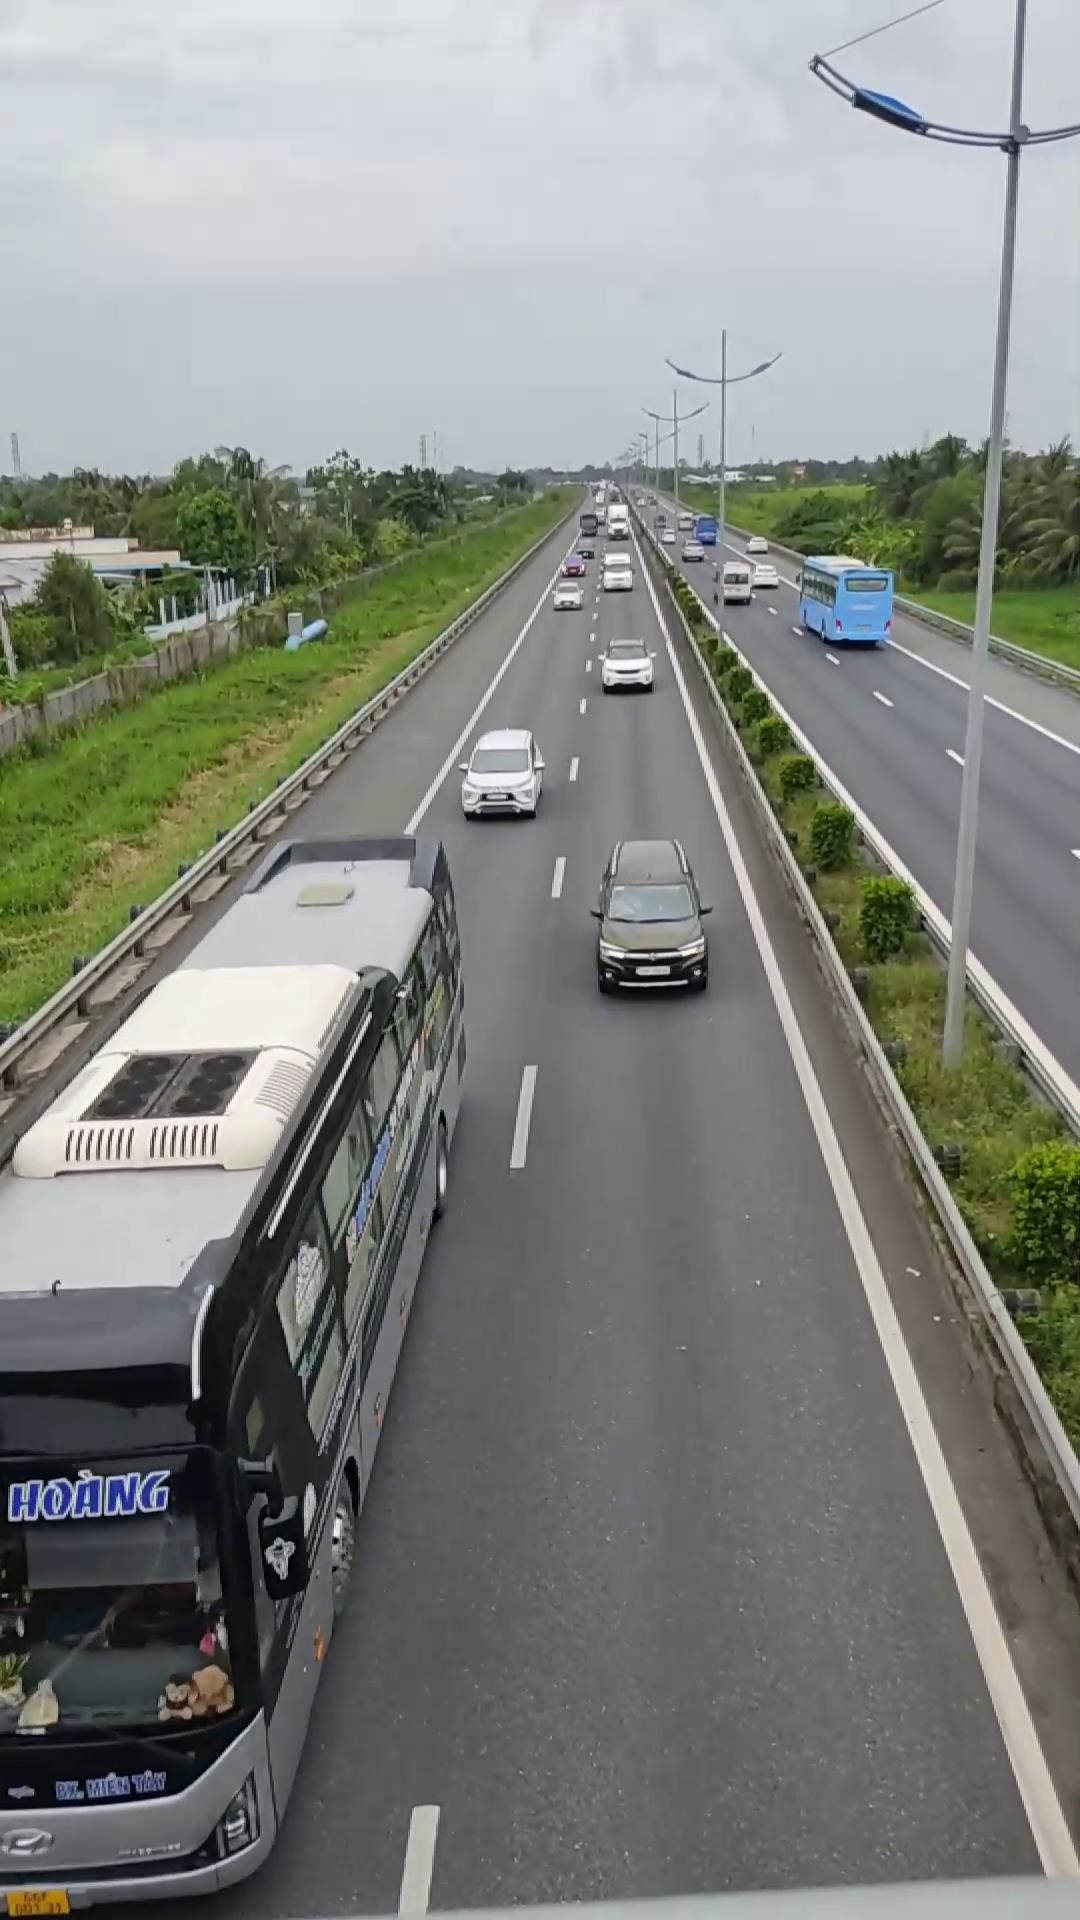bus: (4, 843, 480, 1912)
car: (589, 837, 709, 994), (458, 727, 545, 818)
